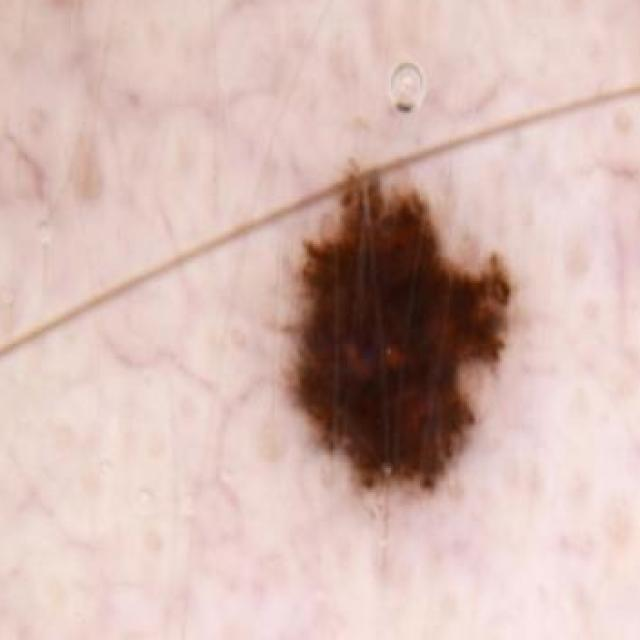NV: (293, 153, 527, 531)
